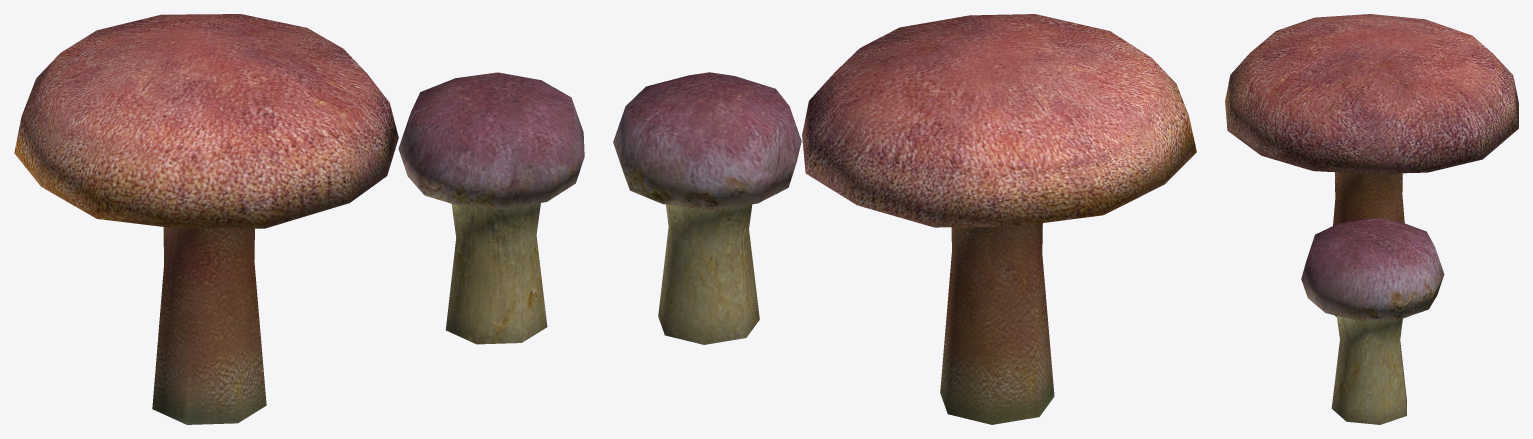
Rendered from Tricholomopsis rutilans.FBX.
The picture shows the model from 3 angles, left to right: view 1: azimuth 30°, elevation 25°; view 2: azimuth 150°, elevation 25°; view 3: azimuth 270°, elevation 25°; orthographic projection. The views are drawn at different scales.
Visible parts, largest first — view 1: Tricholomopsis rutilans, Tricholomopsis rutilans2; view 2: Tricholomopsis rutilans, Tricholomopsis rutilans2; view 3: Tricholomopsis rutilans, Tricholomopsis rutilans2.
Part boxes in pixels (x1,y1,x2,y2): Tricholomopsis rutilans: (14, 14, 398, 424); Tricholomopsis rutilans2: (398, 72, 584, 344); Tricholomopsis rutilans: (802, 14, 1196, 424); Tricholomopsis rutilans2: (613, 72, 801, 344); Tricholomopsis rutilans: (1225, 14, 1518, 318); Tricholomopsis rutilans2: (1301, 218, 1444, 424).
Bounding box in the file's own units: 63.16 × 40.2 × 39.6.
